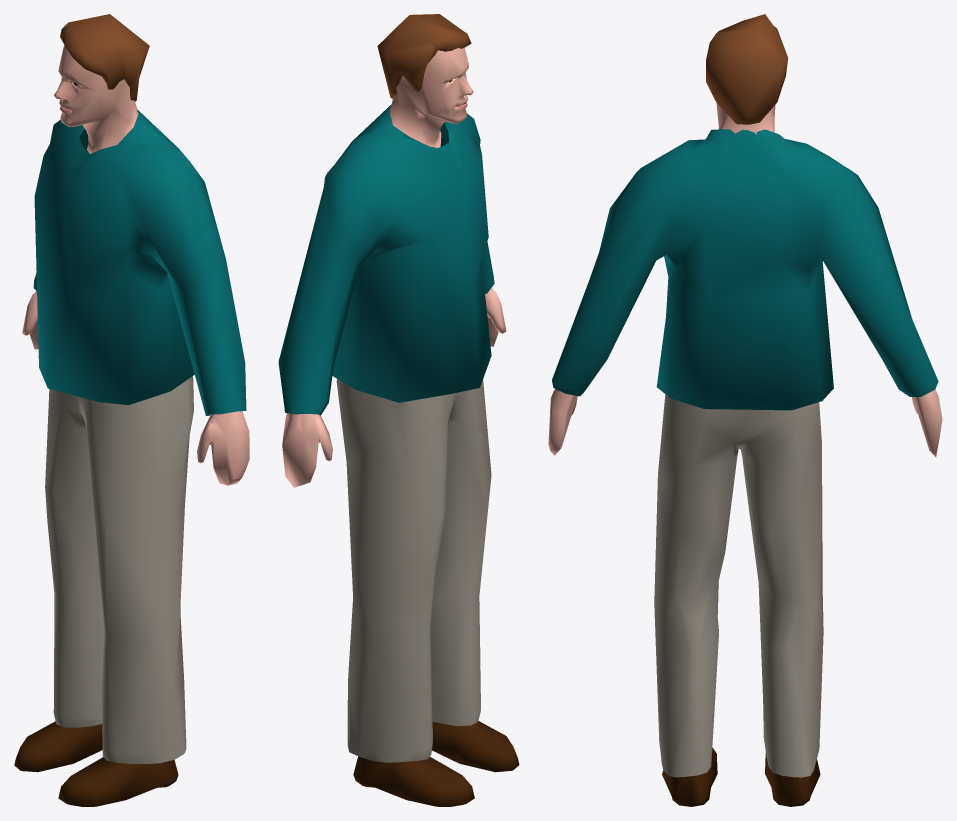
The model's file is Man-03.FBX.
3 renders of one model, left to right at view 1: azimuth 30°, elevation 25°; view 2: azimuth 150°, elevation 25°; view 3: azimuth 270°, elevation 25°, orthographic.
Visible parts, largest first — view 1: Box01; view 2: Box01; view 3: Box01.
Part boxes in pixels (x1,y1,x2,y2): Box01: [14, 14, 249, 806]; Box01: [278, 14, 519, 806]; Box01: [548, 14, 942, 806].
Size of the model in its own units: 0.3359 by 1.74 by 0.8115.
